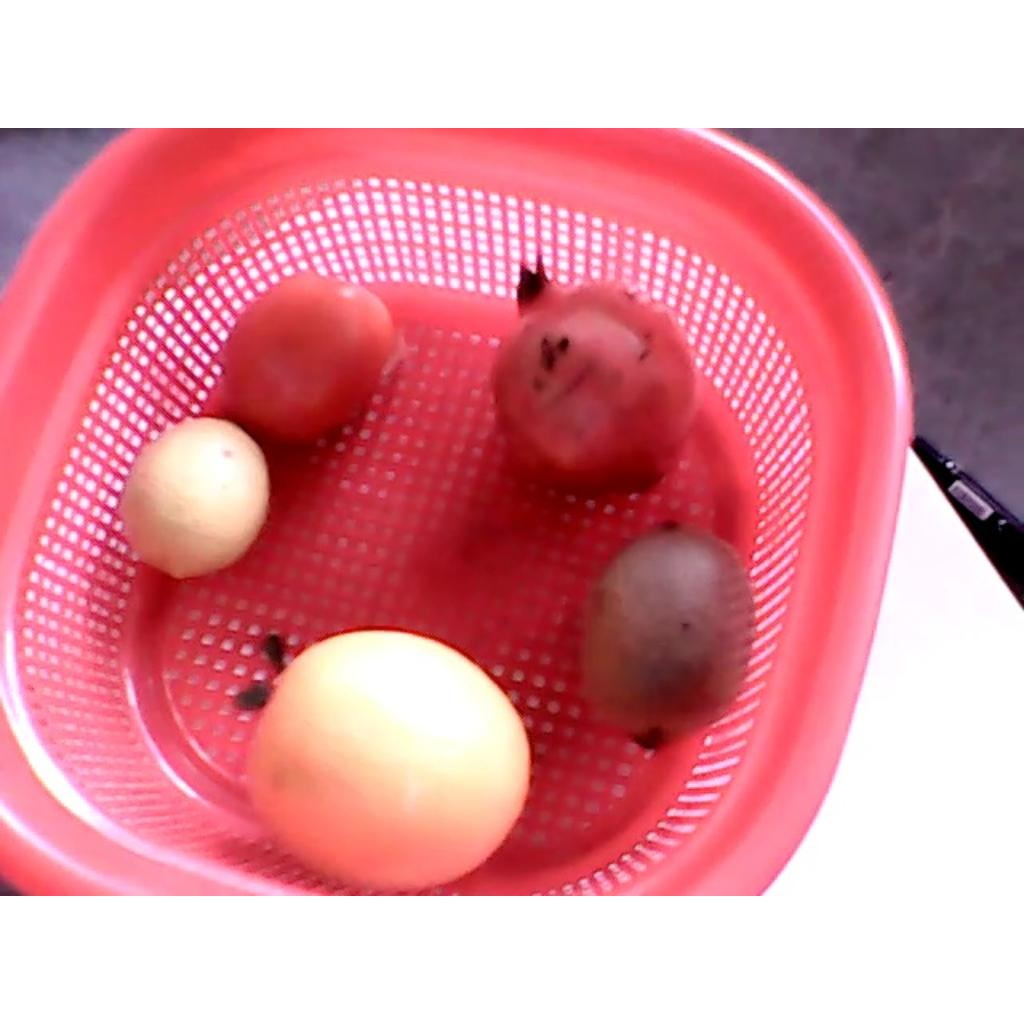kiwi: (586, 519, 753, 751)
lemon: (122, 418, 270, 579)
orange: (247, 631, 531, 893)
pomegranate: (489, 254, 697, 495)
tomato: (219, 277, 394, 446)
